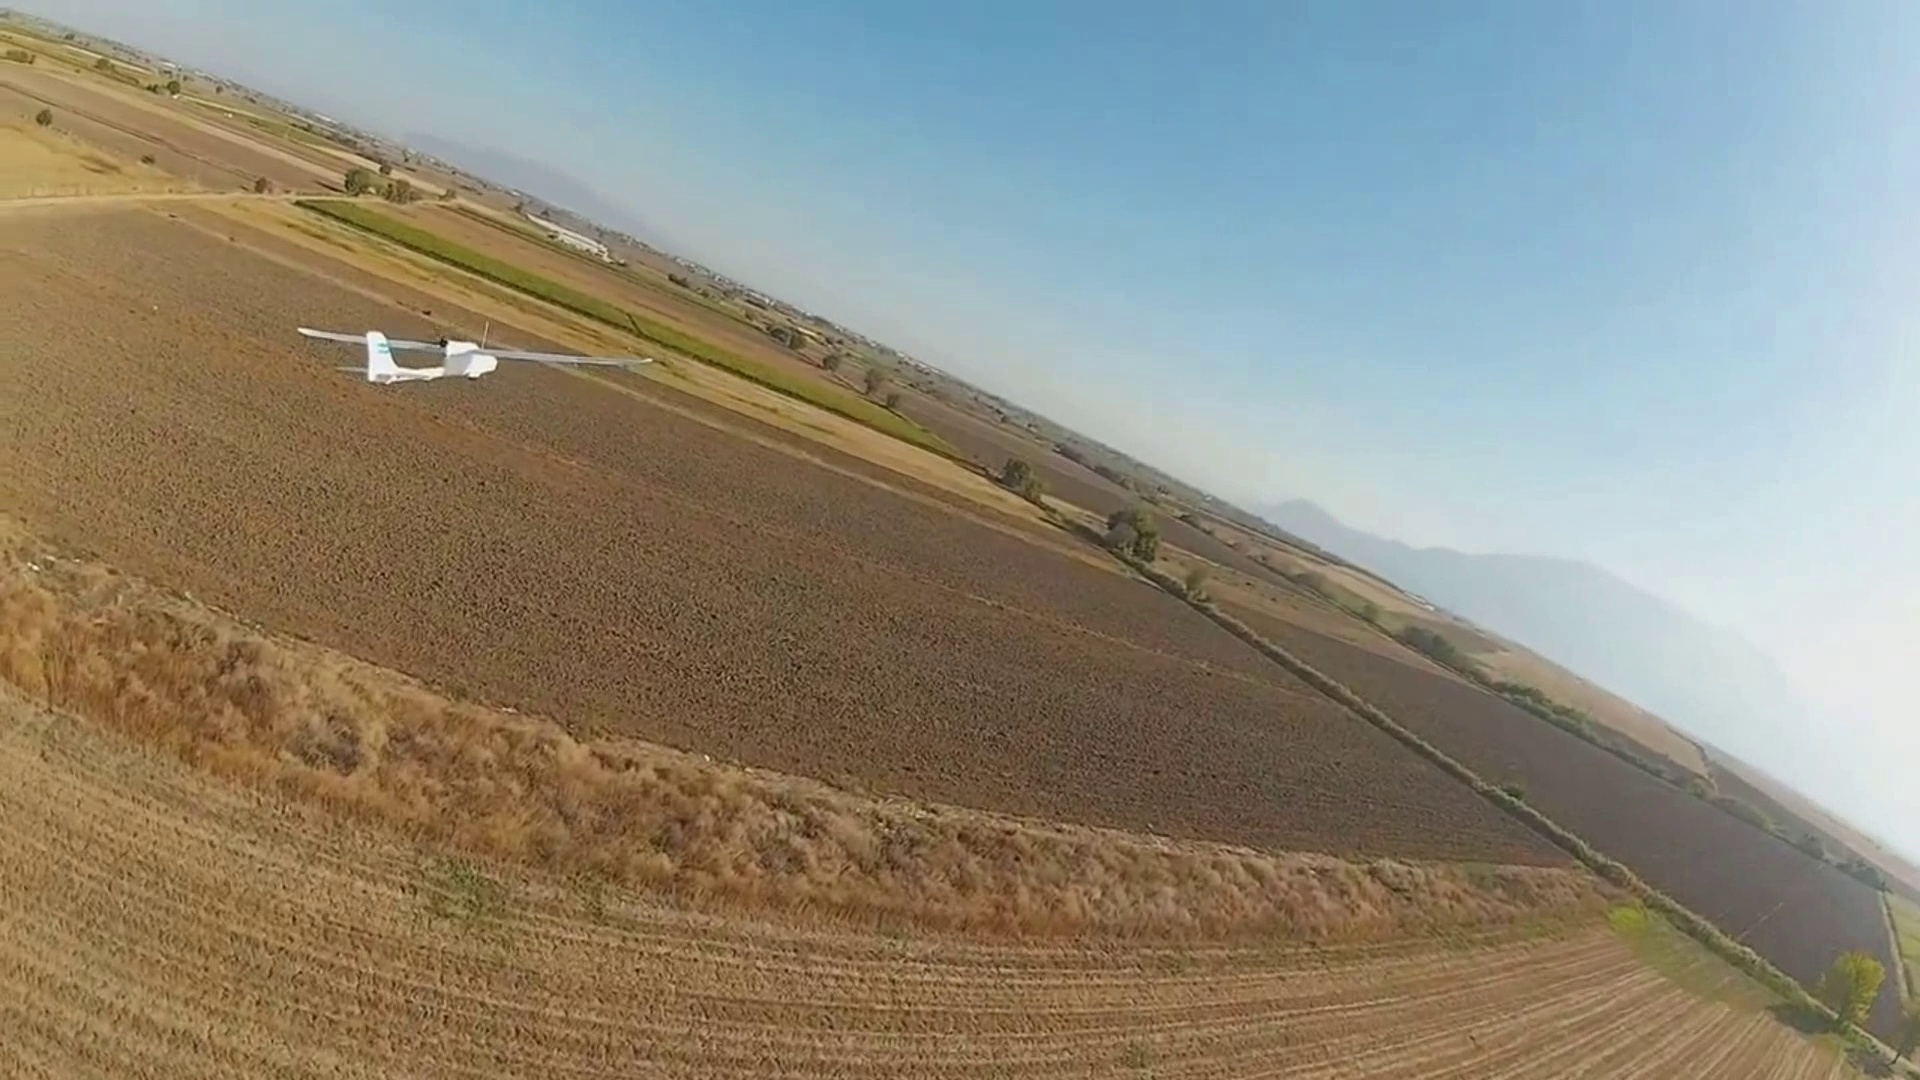airplane: (295, 324, 497, 385)
